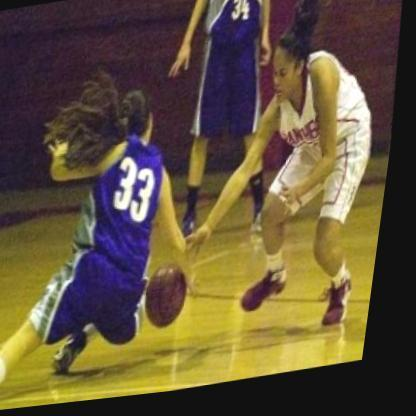basketball: (148, 261, 205, 340)
